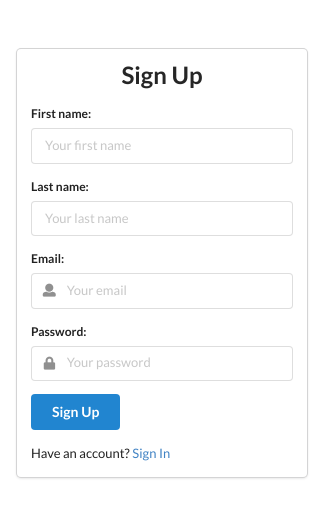
Sign up form component › when signup fails › should display error message
The image size is (325, 528).
Type "some first name" into the field labelled "First name:" at (162,146), box x1=31 y1=128 x2=293 y2=164
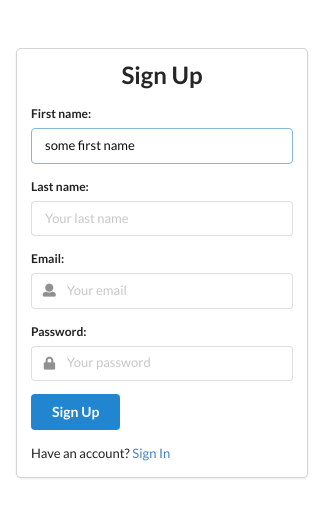
Type "some last name" into the field labelled "Last name:" at (162,218), box x1=31 y1=201 x2=293 y2=236
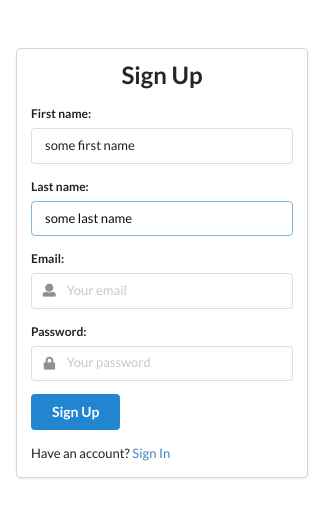
Type "test@test.com" into the field labelled "Email:" at (162,291), box x1=31 y1=273 x2=293 y2=309
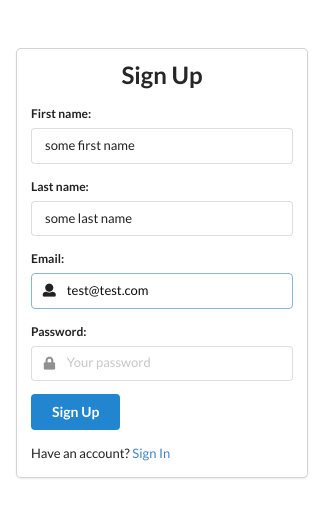
Type "some password" into the password field labelled "Password:" at (162,363), box x1=31 y1=346 x2=293 y2=381
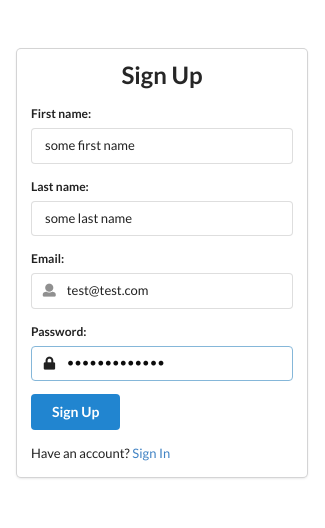
Click the button "Sign Up" at (76,412), box x1=31 y1=394 x2=120 y2=430
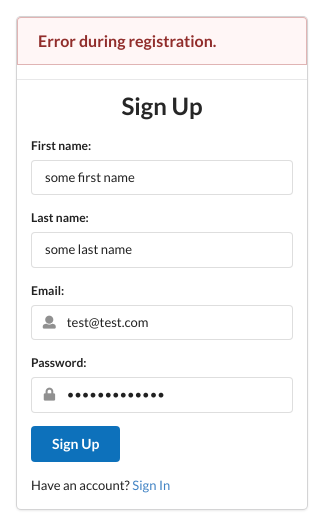
Check: the heading "Sign Up" is shown, box x1=121 y1=91 x2=202 y2=120
Check: the text "Error during registration." is shown, box x1=38 y1=32 x2=216 y2=50
